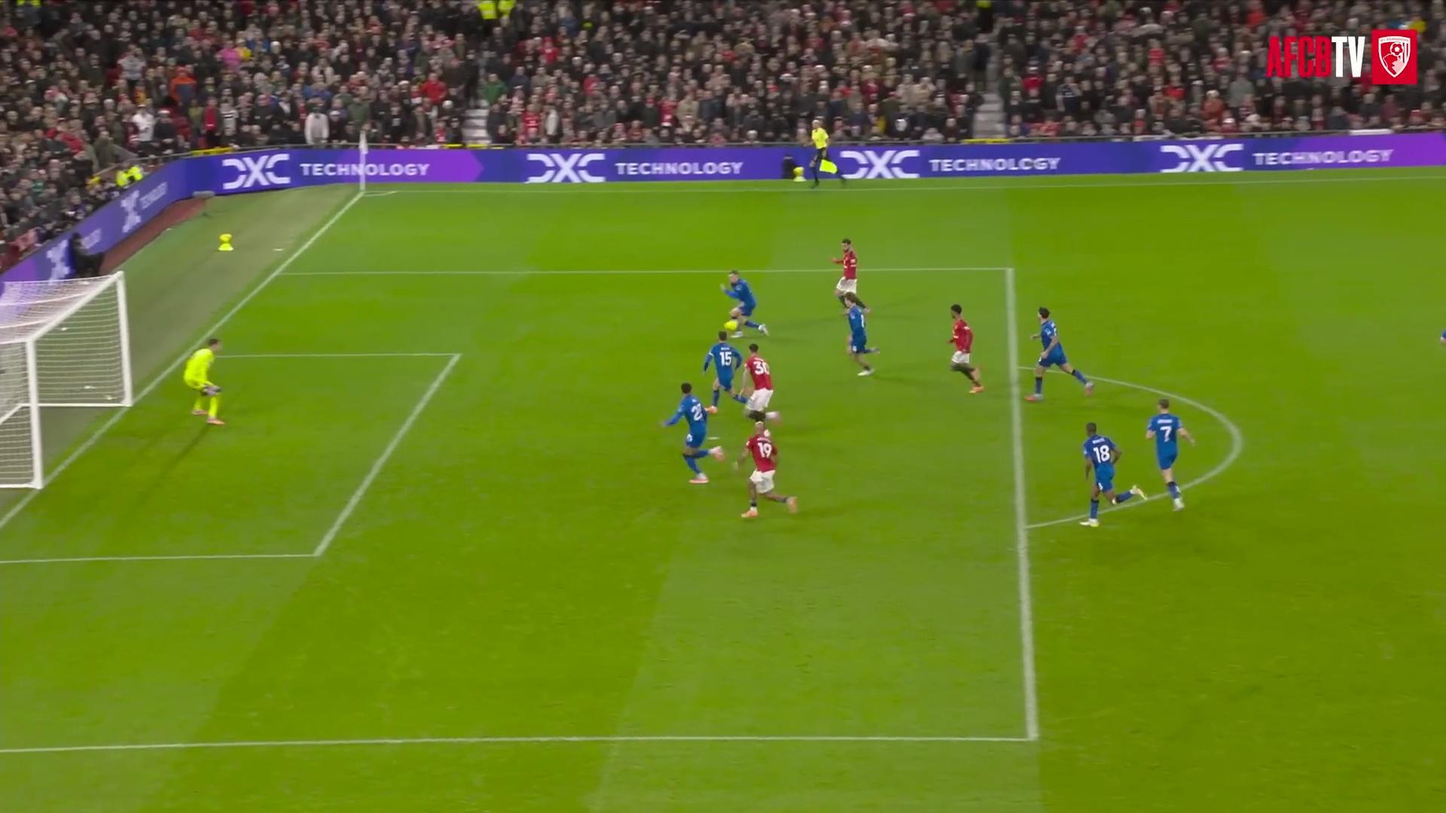football: (724, 319, 737, 330)
player: (1080, 423, 1143, 526), (1026, 307, 1093, 400), (661, 384, 723, 483), (1146, 398, 1194, 510), (741, 422, 797, 517), (184, 339, 223, 425), (703, 331, 746, 406), (721, 270, 767, 337), (950, 304, 984, 393), (743, 343, 779, 422), (845, 293, 878, 376), (832, 239, 857, 306), (1440, 330, 1445, 344)
referee: (810, 120, 828, 187)
